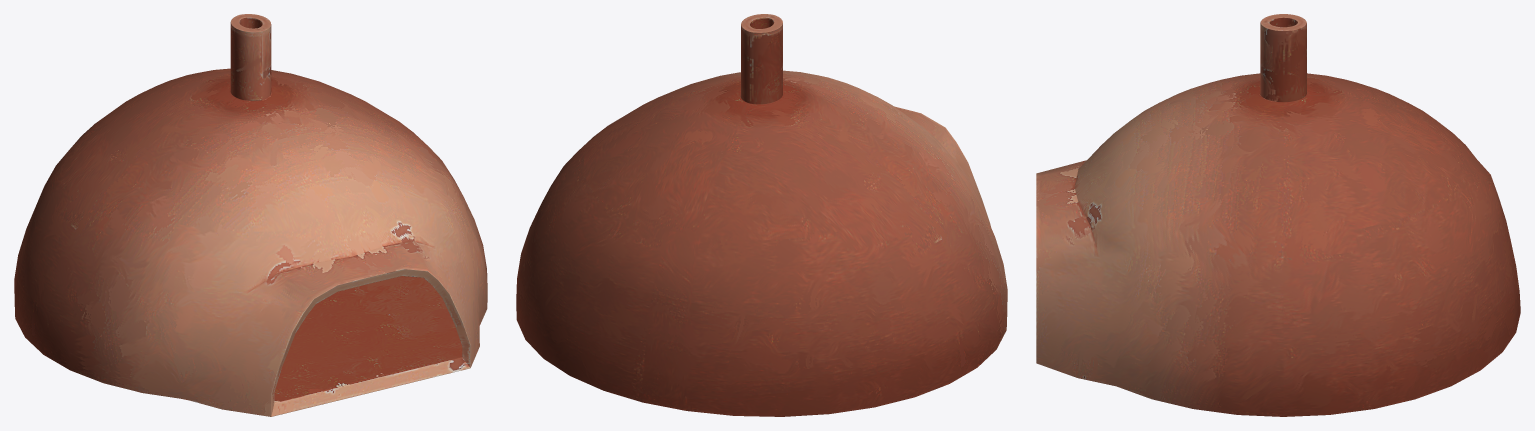
File: Slove_lvl2.fbx
3 views of the same model, side by side, from view 1: azimuth 30°, elevation 25°; view 2: azimuth 150°, elevation 25°; view 3: azimuth 270°, elevation 25° (orthographic). The views are drawn at different scales.
Visible parts, largest first — view 1: Sphere; view 2: Sphere; view 3: Sphere.
Boxes of the visible parts, x1,y1,x2,y2 form: Sphere: (14, 14, 487, 416); Sphere: (516, 14, 1007, 416); Sphere: (1036, 14, 1520, 416).
Bounding box in the file's own units: 390 × 253 × 382.
